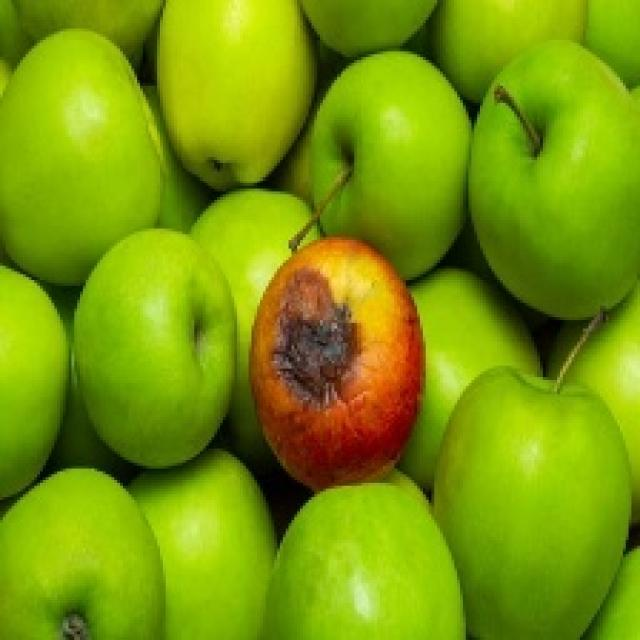apple: (434, 368, 630, 639), (468, 41, 639, 319), (250, 237, 422, 490), (75, 229, 235, 468), (310, 52, 470, 279), (262, 475, 465, 639), (157, 0, 313, 189), (129, 449, 276, 639), (431, 0, 584, 102)
